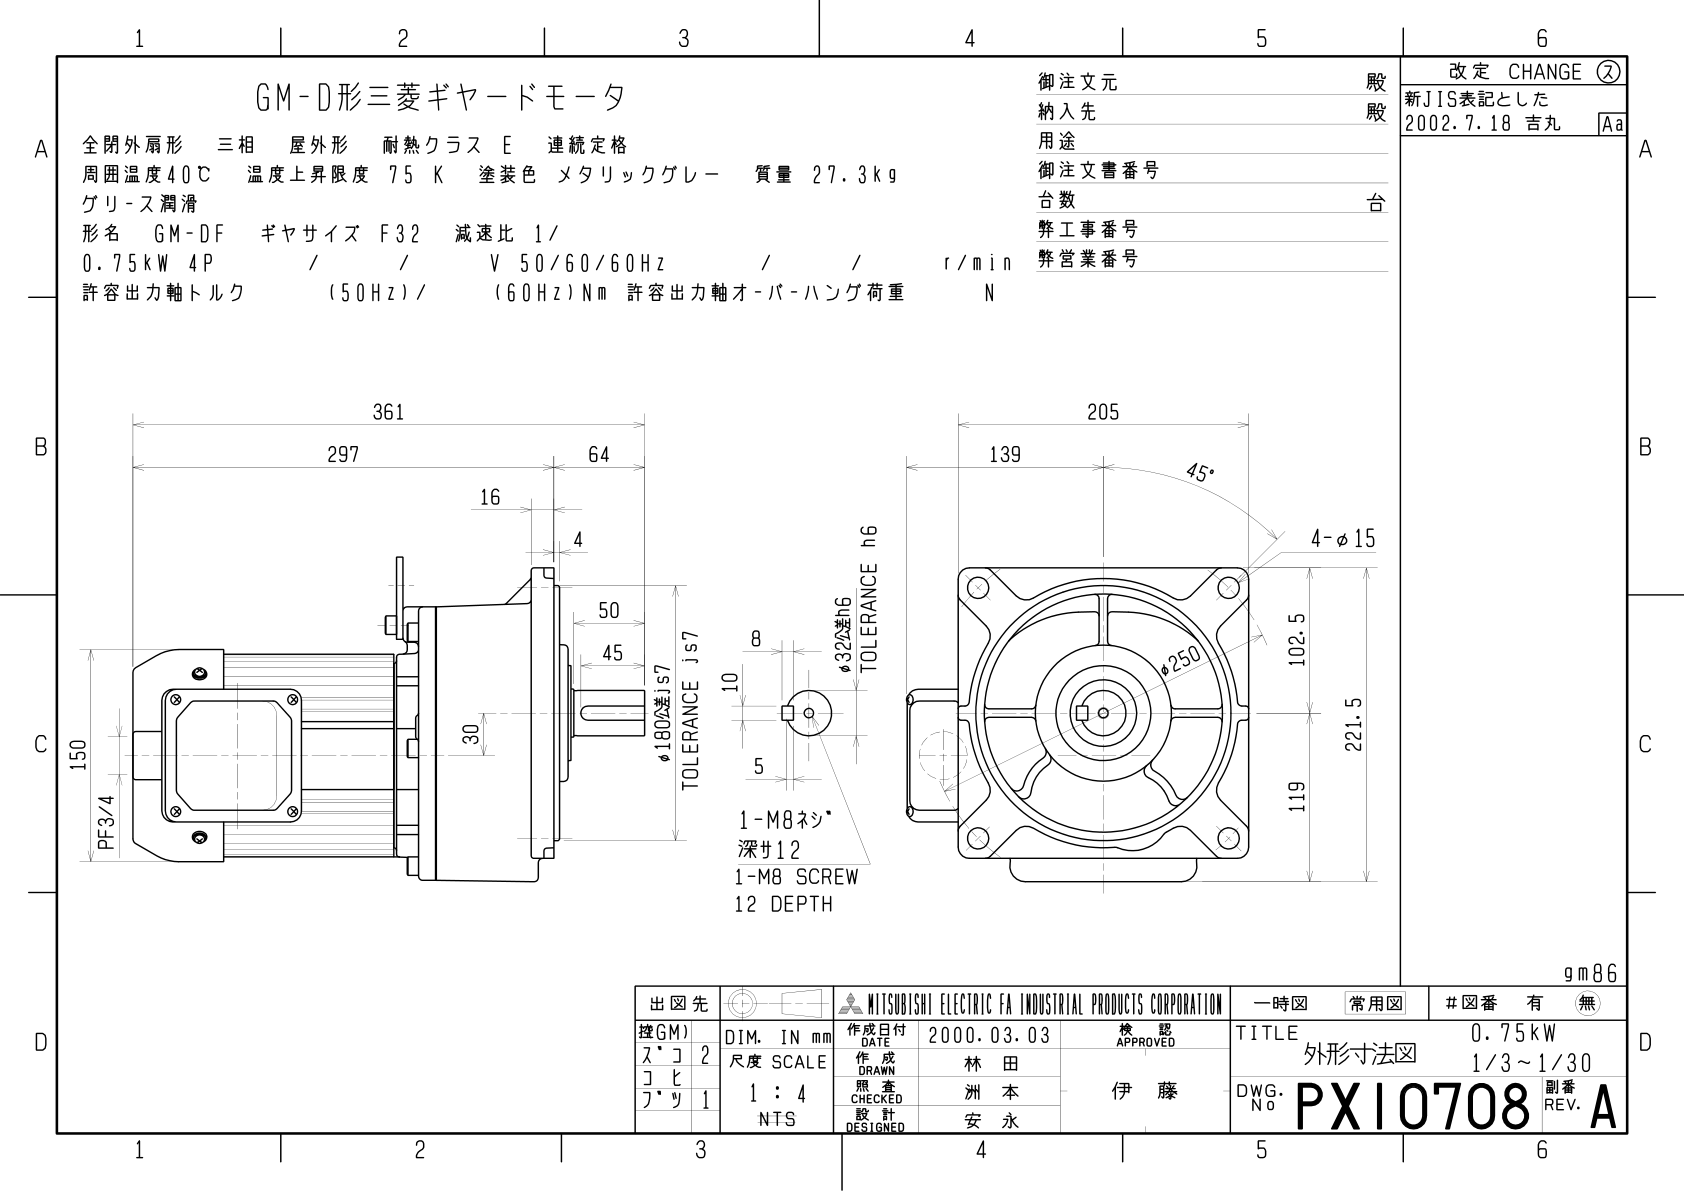GM_D_屋外＿三相_フランジ: (1, 1, 1674, 1178)
